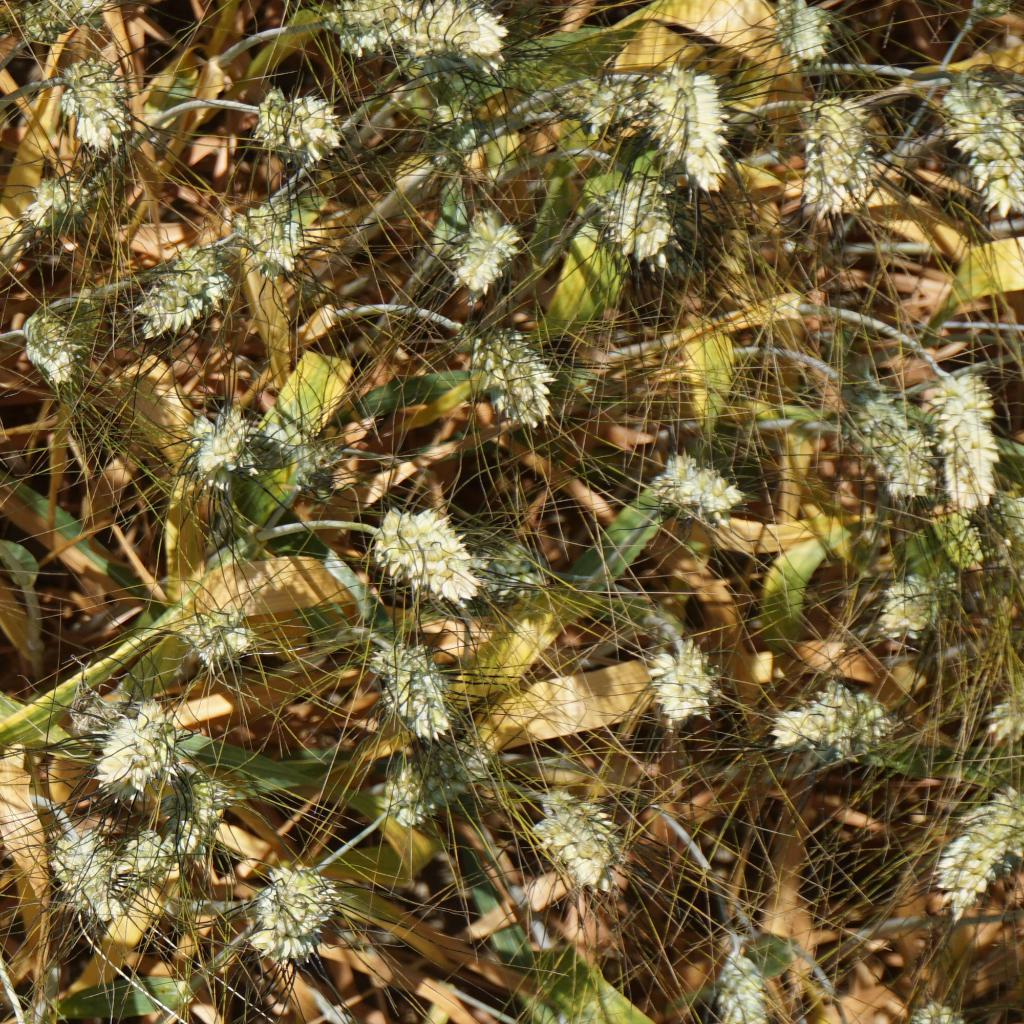0-0: (316, 0, 539, 71), (931, 775, 1024, 907), (370, 496, 472, 616), (929, 67, 1024, 194), (787, 92, 876, 210), (244, 864, 356, 956), (931, 370, 1002, 512), (468, 323, 565, 421), (531, 795, 628, 888), (655, 67, 730, 185), (47, 51, 135, 149), (442, 208, 531, 301), (362, 626, 442, 728), (90, 702, 175, 797), (772, 683, 884, 754), (878, 574, 965, 665), (53, 811, 121, 913), (238, 193, 321, 275), (372, 760, 460, 835), (651, 644, 730, 726), (698, 935, 770, 1024), (860, 403, 927, 496), (659, 460, 744, 533), (185, 403, 258, 484), (11, 305, 82, 388), (292, 425, 349, 524), (244, 90, 342, 147), (13, 177, 96, 244), (769, 0, 852, 67), (153, 256, 224, 332), (181, 606, 267, 667), (116, 809, 200, 864), (616, 171, 667, 260), (577, 67, 635, 143), (468, 537, 527, 594), (20, 0, 123, 31), (913, 992, 974, 1024), (0, 1006, 96, 1024)
